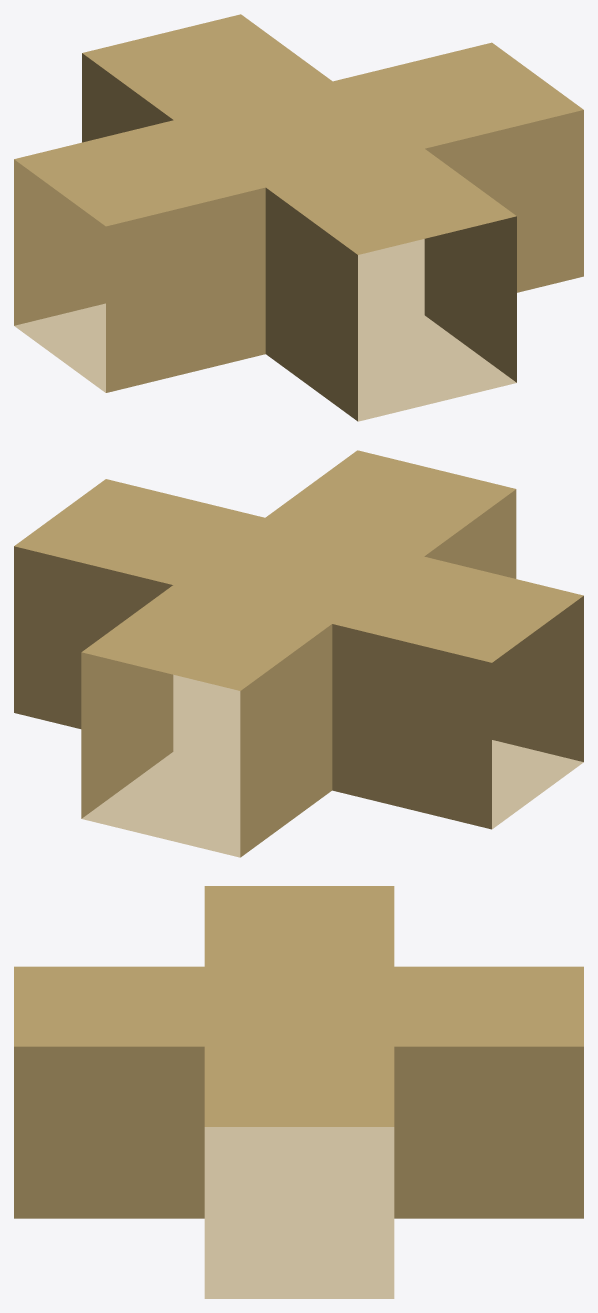
File: Hallway003.fbx
3 views of the same model, one above another, from view 1: azimuth 30°, elevation 25°; view 2: azimuth 150°, elevation 25°; view 3: azimuth 270°, elevation 25° (orthographic). The views are drawn at different scales.
Parts seen in each view (by area): view 1: Cube; view 2: Cube; view 3: Cube.
Boxes of the visible parts, x1,y1,x2,y2 form: Cube: (14, 14, 583, 421); Cube: (14, 450, 583, 857); Cube: (14, 886, 583, 1298).
Size of the model in its own units: 1201 by 400 by 1201.
